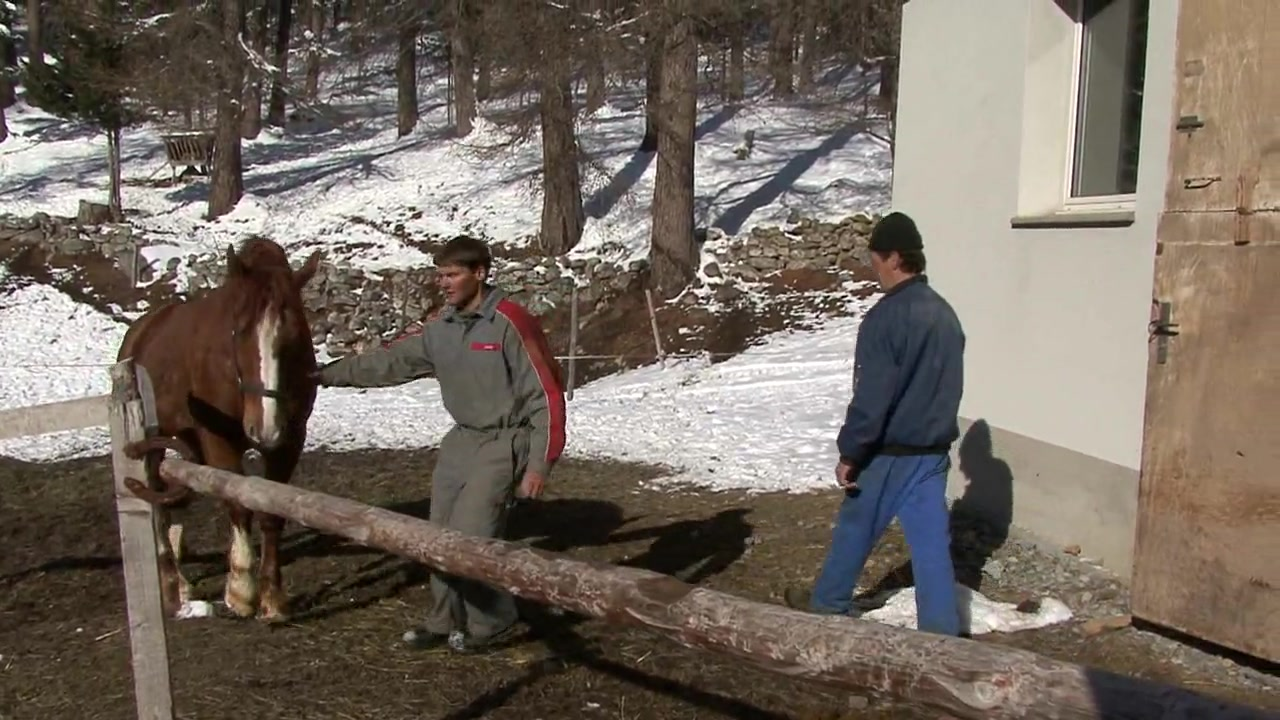horse: (114, 245, 324, 631)
